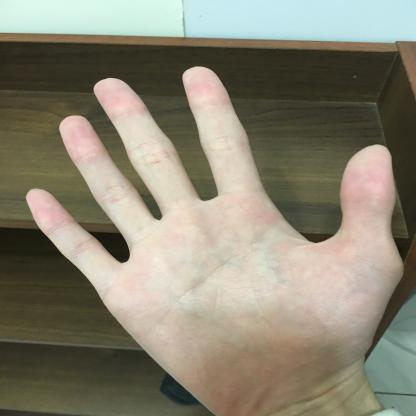bare_hand: (7, 55, 411, 415)
